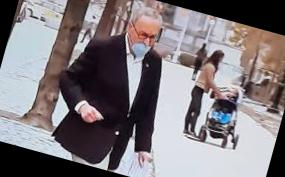mask_weared_incorrect: (129, 26, 160, 61)
